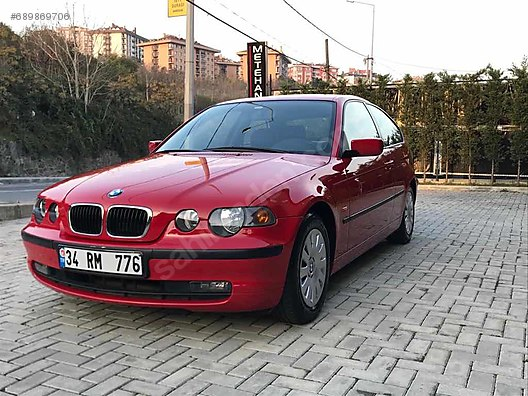bmw: (18, 86, 425, 328)
